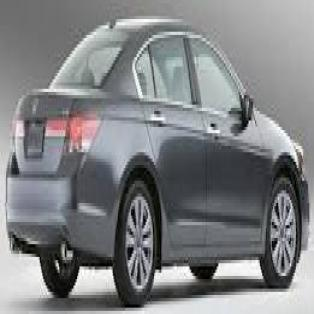Auto: (3, 16, 312, 311)
